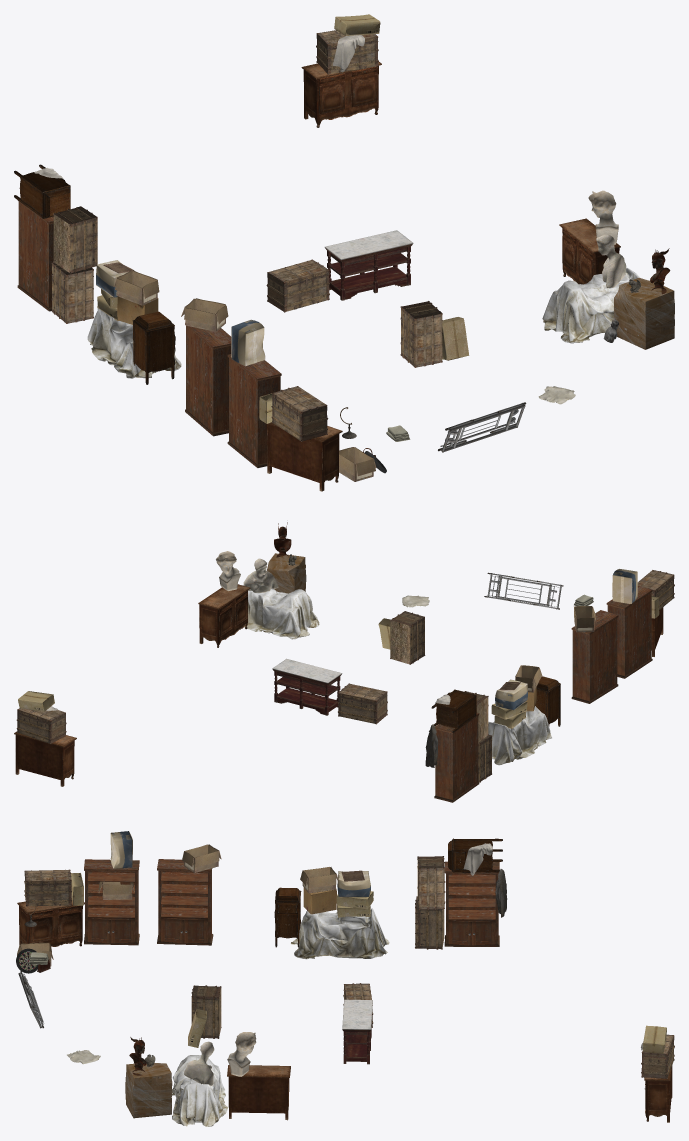
File: sm301_01_604room_03.fbx
3 renders of one model, top to bottom at view 1: azimuth 30°, elevation 25°; view 2: azimuth 150°, elevation 25°; view 3: azimuth 270°, elevation 25°, orthographic. The views are drawn at different scales.
Visible parts, largest first — view 1: 0074_sm26004WoodenBox01A00ms_1_Group_0_Sub_1__sm26_004__208d, 0122_sm30099SlideShelf01A00ms_1_Group_0_Sub_1__sm30_099_5fe1, 0120_sm30109Lowchest01A00ms_1_Group_0_Sub_1__sm30_109_L_93d0, 0191_sm30150PlasticSheet01A00ms_1_Group_0_Sub_1__sm30_1_91aa, 0118_sm30148Table05A00ms_1_Group_0_Sub_1__sm30_148_Tabl_e143, 0116_sm30142RecordPlayer02A00ms_1_Group_0_Sub_1__sm30_1_64d0, 0203_sm36073Vinylbox02A00ms_1_Group_0_Sub_1__sm36_073_V_aec1, 0080_sm36006Cardboard05A00ms_1_Group_1_Sub_1__sm36_006__1841, 0088_sm36004Cardboard03A00ms_1_Group_0_Sub_1__sm36_004__b3a9, 0200_sm36003Cardboard02A00ms_1_Group_0_Sub_1__sm36_003__2fc4, 0115_sm30004FoldingTable02A00ms_1_Group_0_Sub_1__sm30_0_b842, 0206_sm32069BustStatue01A00ms_1_Group_0_Sub_1__sm32_069_725f (+3 smaller); view 2: 0122_sm30099SlideShelf01A00ms_1_Group_0_Sub_1__sm30_099_5fe1, 0074_sm26004WoodenBox01A00ms_1_Group_0_Sub_1__sm26_004__208d, 0191_sm30150PlasticSheet01A00ms_1_Group_0_Sub_1__sm30_1_91aa, 0120_sm30109Lowchest01A00ms_1_Group_0_Sub_1__sm30_109_L_93d0, 0118_sm30148Table05A00ms_1_Group_0_Sub_1__sm30_148_Tabl_e143, 0116_sm30142RecordPlayer02A00ms_1_Group_0_Sub_1__sm30_1_64d0, 0088_sm36004Cardboard03A00ms_1_Group_0_Sub_1__sm36_004__b3a9, 0200_sm36003Cardboard02A00ms_1_Group_0_Sub_1__sm36_003__2fc4, 0203_sm36073Vinylbox02A00ms_1_Group_0_Sub_1__sm36_073_V_aec1, 0115_sm30004FoldingTable02A00ms_1_Group_0_Sub_1__sm30_0_b842, 0080_sm36006Cardboard05A00ms_1_Group_1_Sub_1__sm36_006__1841, 0206_sm32069BustStatue01A00ms_1_Group_0_Sub_1__sm32_069_725f (+2 smaller); view 3: 0122_sm30099SlideShelf01A00ms_1_Group_0_Sub_1__sm30_099_5fe1, 0074_sm26004WoodenBox01A00ms_1_Group_0_Sub_1__sm26_004__208d, 0120_sm30109Lowchest01A00ms_1_Group_0_Sub_1__sm30_109_L_93d0, 0191_sm30150PlasticSheet01A00ms_1_Group_0_Sub_1__sm30_1_91aa, 0080_sm36006Cardboard05A00ms_1_Group_1_Sub_1__sm36_006__1841, 0116_sm30142RecordPlayer02A00ms_1_Group_0_Sub_1__sm30_1_64d0, 0203_sm36073Vinylbox02A00ms_1_Group_0_Sub_1__sm36_073_V_aec1, 0088_sm36004Cardboard03A00ms_1_Group_0_Sub_1__sm36_004__b3a9, 0118_sm30148Table05A00ms_1_Group_0_Sub_1__sm30_148_Tabl_e143, 0200_sm36003Cardboard02A00ms_1_Group_0_Sub_1__sm36_003__2fc4, 0207_sm32067BustStatue01A00ms_1_Group_0_Sub_1__sm32_067_e54b, 0206_sm32069BustStatue01A00ms_1_Group_0_Sub_1__sm32_069_725f (+3 smaller).
Part boxes in pixels (<box>): 0074_sm26004WoodenBox01A00ms_1_Group_0_Sub_1__sm26_004__208d: <box>51,30,442,441</box>; 0122_sm30099SlideShelf01A00ms_1_Group_0_Sub_1__sm30_099_5fe1: <box>17,197,281,467</box>; 0120_sm30109Lowchest01A00ms_1_Group_0_Sub_1__sm30_109_L_93d0: <box>267,61,620,491</box>; 0191_sm30150PlasticSheet01A00ms_1_Group_0_Sub_1__sm30_1_91aa: <box>87,268,640,378</box>; 0118_sm30148Table05A00ms_1_Group_0_Sub_1__sm30_148_Tabl_e143: <box>324,230,413,300</box>; 0116_sm30142RecordPlayer02A00ms_1_Group_0_Sub_1__sm30_1_64d0: <box>14,164,175,384</box>; 0203_sm36073Vinylbox02A00ms_1_Group_0_Sub_1__sm36_073_V_aec1: <box>613,278,674,349</box>; 0080_sm36006Cardboard05A00ms_1_Group_1_Sub_1__sm36_006__1841: <box>114,270,376,481</box>; 0088_sm36004Cardboard03A00ms_1_Group_0_Sub_1__sm36_004__b3a9: <box>97,14,469,423</box>; 0200_sm36003Cardboard02A00ms_1_Group_0_Sub_1__sm36_003__2fc4: <box>96,260,265,366</box>; 0115_sm30004FoldingTable02A00ms_1_Group_0_Sub_1__sm30_0_b842: <box>438,402,526,452</box>; 0206_sm32069BustStatue01A00ms_1_Group_0_Sub_1__sm32_069_725f: <box>596,234,626,288</box>; 0122_sm30099SlideShelf01A00ms_1_Group_0_Sub_1__sm30_099_5fe1: <box>434,585,652,802</box>; 0074_sm26004WoodenBox01A00ms_1_Group_0_Sub_1__sm26_004__208d: <box>16,570,674,782</box>; 0191_sm30150PlasticSheet01A00ms_1_Group_0_Sub_1__sm30_1_91aa: <box>243,585,551,765</box>; 0120_sm30109Lowchest01A00ms_1_Group_0_Sub_1__sm30_109_L_93d0: <box>14,584,663,786</box>; 0118_sm30148Table05A00ms_1_Group_0_Sub_1__sm30_148_Tabl_e143: <box>272,658,342,715</box>; 0116_sm30142RecordPlayer02A00ms_1_Group_0_Sub_1__sm30_1_64d0: <box>431,676,560,732</box>; 0088_sm36004Cardboard03A00ms_1_Group_0_Sub_1__sm36_004__b3a9: <box>18,596,659,728</box>; 0200_sm36003Cardboard02A00ms_1_Group_0_Sub_1__sm36_003__2fc4: <box>495,569,637,710</box>; 0203_sm36073Vinylbox02A00ms_1_Group_0_Sub_1__sm36_073_V_aec1: <box>266,553,306,593</box>; 0115_sm30004FoldingTable02A00ms_1_Group_0_Sub_1__sm30_0_b842: <box>484,572,563,609</box>; 0080_sm36006Cardboard05A00ms_1_Group_1_Sub_1__sm36_006__1841: <box>515,606,596,692</box>; 0206_sm32069BustStatue01A00ms_1_Group_0_Sub_1__sm32_069_725f: <box>243,558,278,592</box>; 0122_sm30099SlideShelf01A00ms_1_Group_0_Sub_1__sm30_099_5fe1: <box>84,859,499,946</box>; 0074_sm26004WoodenBox01A00ms_1_Group_0_Sub_1__sm26_004__208d: <box>24,856,674,1078</box>; 0120_sm30109Lowchest01A00ms_1_Group_0_Sub_1__sm30_109_L_93d0: <box>17,898,672,1122</box>; 0191_sm30150PlasticSheet01A00ms_1_Group_0_Sub_1__sm30_1_91aa: <box>172,908,389,1126</box>; 0080_sm36006Cardboard05A00ms_1_Group_1_Sub_1__sm36_006__1841: <box>17,844,338,966</box>; 0116_sm30142RecordPlayer02A00ms_1_Group_0_Sub_1__sm30_1_64d0: <box>274,838,502,947</box>; 0203_sm36073Vinylbox02A00ms_1_Group_0_Sub_1__sm36_073_V_aec1: <box>125,1062,172,1118</box>; 0088_sm36004Cardboard03A00ms_1_Group_0_Sub_1__sm36_004__b3a9: <box>70,873,666,1053</box>; 0118_sm30148Table05A00ms_1_Group_0_Sub_1__sm30_148_Tabl_e143: <box>342,999,372,1064</box>; 0200_sm36003Cardboard02A00ms_1_Group_0_Sub_1__sm36_003__2fc4: <box>110,831,370,897</box>; 0207_sm32067BustStatue01A00ms_1_Group_0_Sub_1__sm32_067_e54b: <box>227,1032,256,1076</box>; 0206_sm32069BustStatue01A00ms_1_Group_0_Sub_1__sm32_069_725f: <box>184,1041,214,1085</box>.
Bounding box in the file's own units: 10.38 × 2.74 × 15.11.
